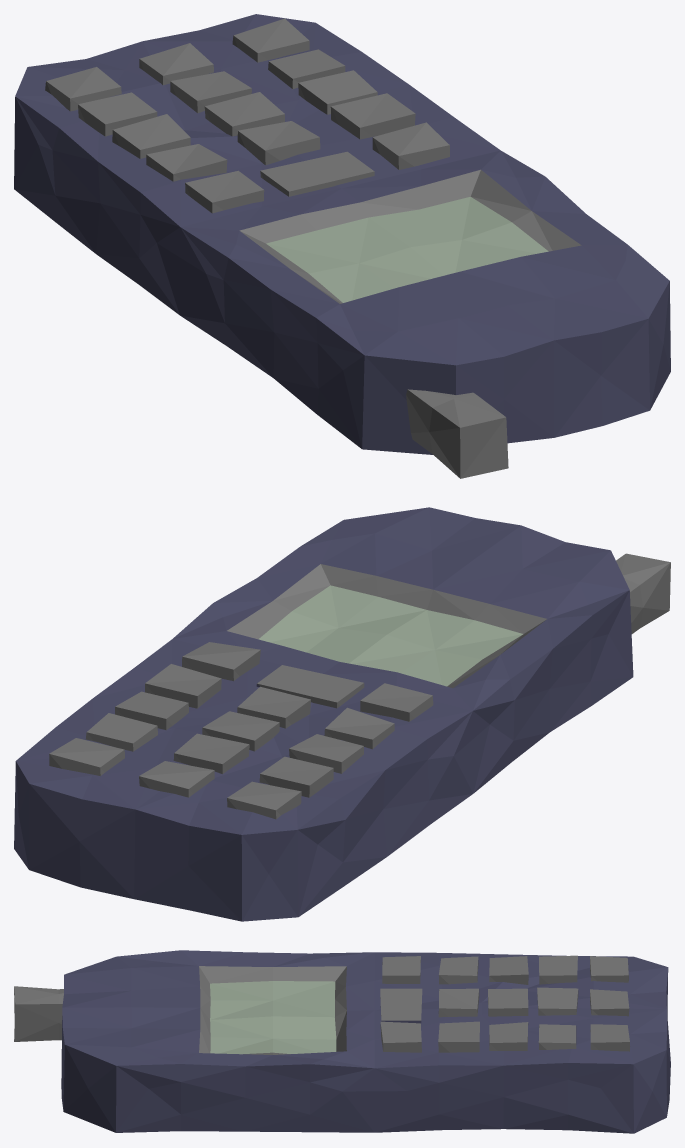
File: item_phone.fbx
3 views of the same model, one above another, from view 1: azimuth 30°, elevation 25°; view 2: azimuth 150°, elevation 25°; view 3: azimuth 270°, elevation 25° (orthographic). The views are drawn at different scales.
Parts seen in each view (by area): view 1: item_phone; view 2: item_phone; view 3: item_phone.
Boxes of the visible parts, x1=… form: item_phone: x1=14, y1=14, x2=670, y2=478; item_phone: x1=14, y1=507, x2=670, y2=921; item_phone: x1=14, y1=950, x2=670, y2=1133.
Bounding box in the file's own units: 8.15 × 2.62 × 19.38.
